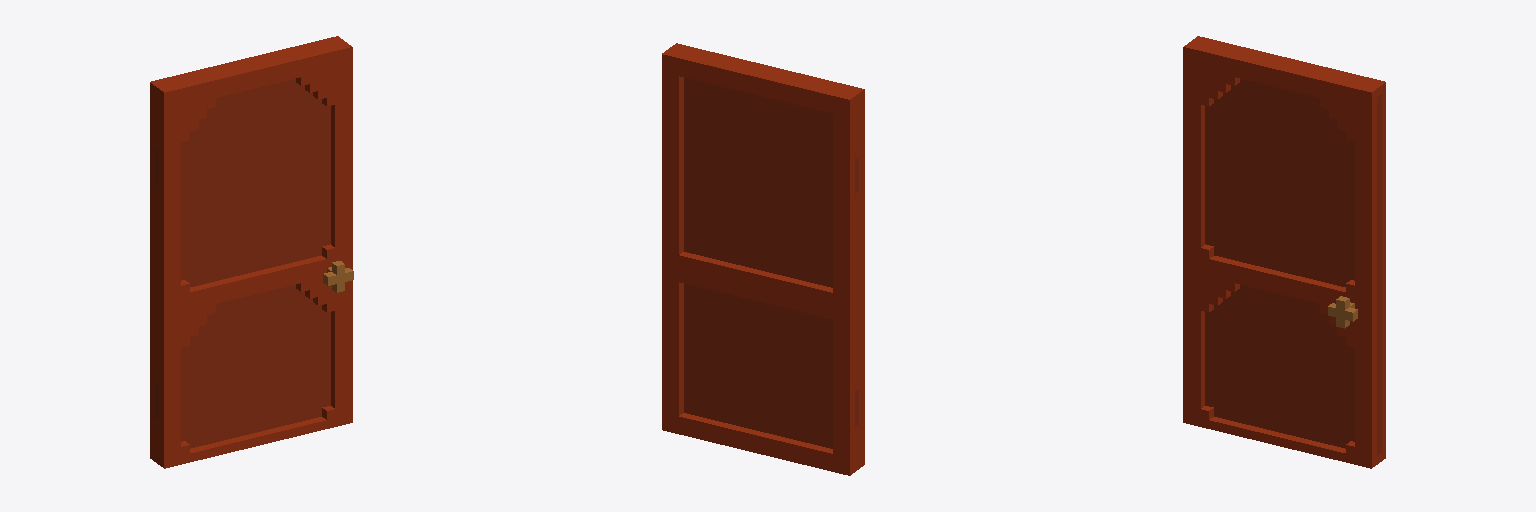
3 renders of one model, left to right at view 1: azimuth 30°, elevation 25°; view 2: azimuth 150°, elevation 25°; view 3: azimuth 330°, elevation 25°, orthographic.
Parts seen in each view (by area): view 1: DOOR.001; view 2: DOOR.001; view 3: DOOR.001.
Part boxes in pixels (x1,y1,x2,y2): DOOR.001: (150,36,353,468); DOOR.001: (662,43,864,475); DOOR.001: (1183,36,1385,468).
Size of the model in its own units: 2.2 by 4.2 by 0.5.
Materials: 1 (1 with a texture image).